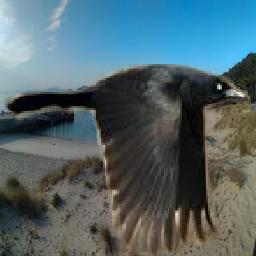Crow: (5, 60, 252, 256)
